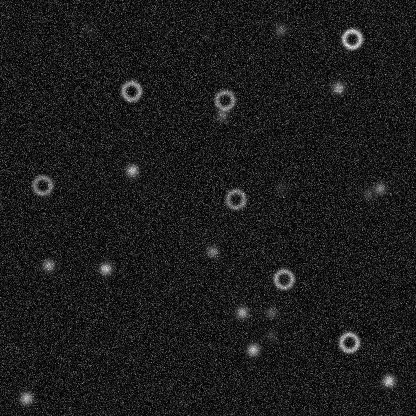Ring: (119, 78, 143, 102), (271, 267, 295, 291), (337, 330, 361, 354), (212, 88, 236, 112), (30, 173, 54, 197), (339, 26, 363, 50), (223, 187, 247, 211)
Spot: (245, 341, 261, 357), (360, 186, 376, 202), (124, 162, 140, 178), (272, 179, 288, 195), (18, 390, 34, 406), (372, 180, 388, 196), (233, 304, 249, 320), (330, 79, 346, 95), (204, 243, 220, 259), (380, 372, 396, 388), (79, 21, 95, 37), (262, 304, 278, 320), (263, 327, 279, 343), (40, 257, 56, 273), (97, 260, 113, 276), (214, 106, 230, 122), (272, 21, 288, 37)
